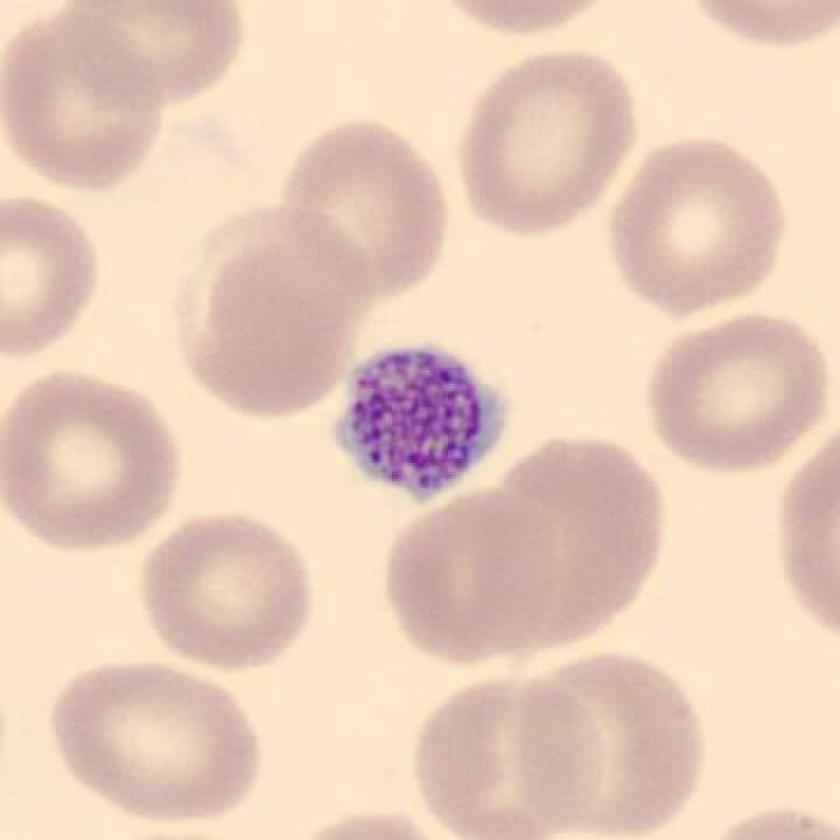platelets: (323, 332, 519, 505)
